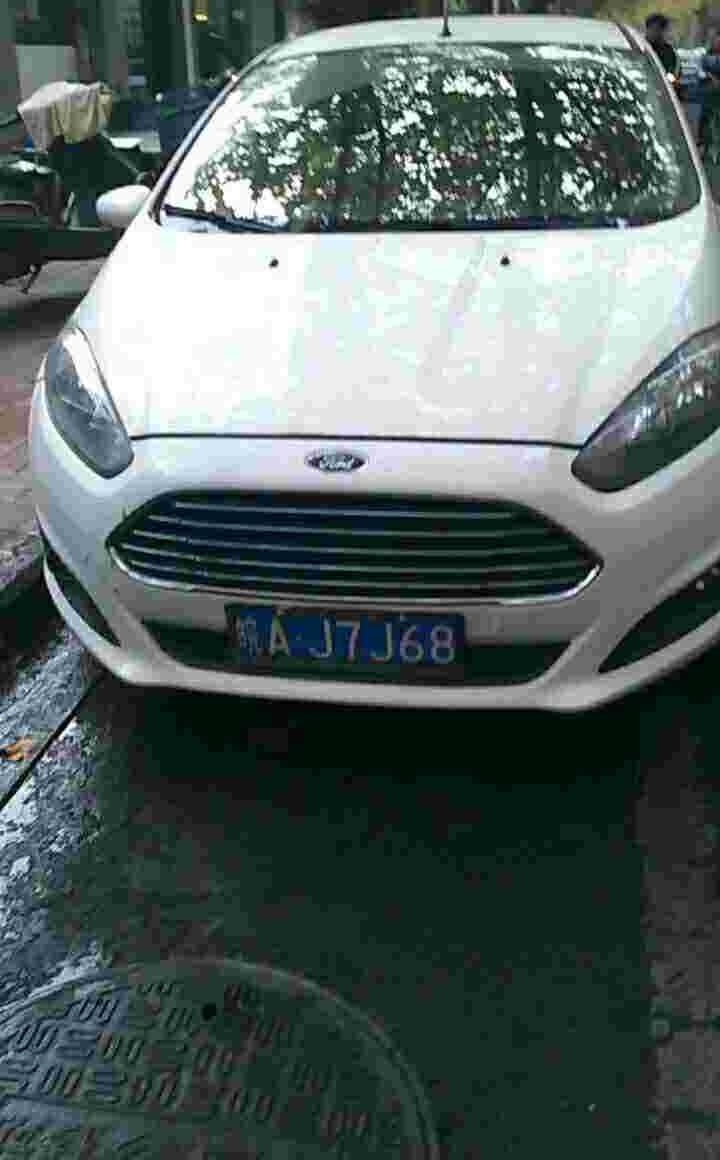car: (226, 601, 488, 686)
